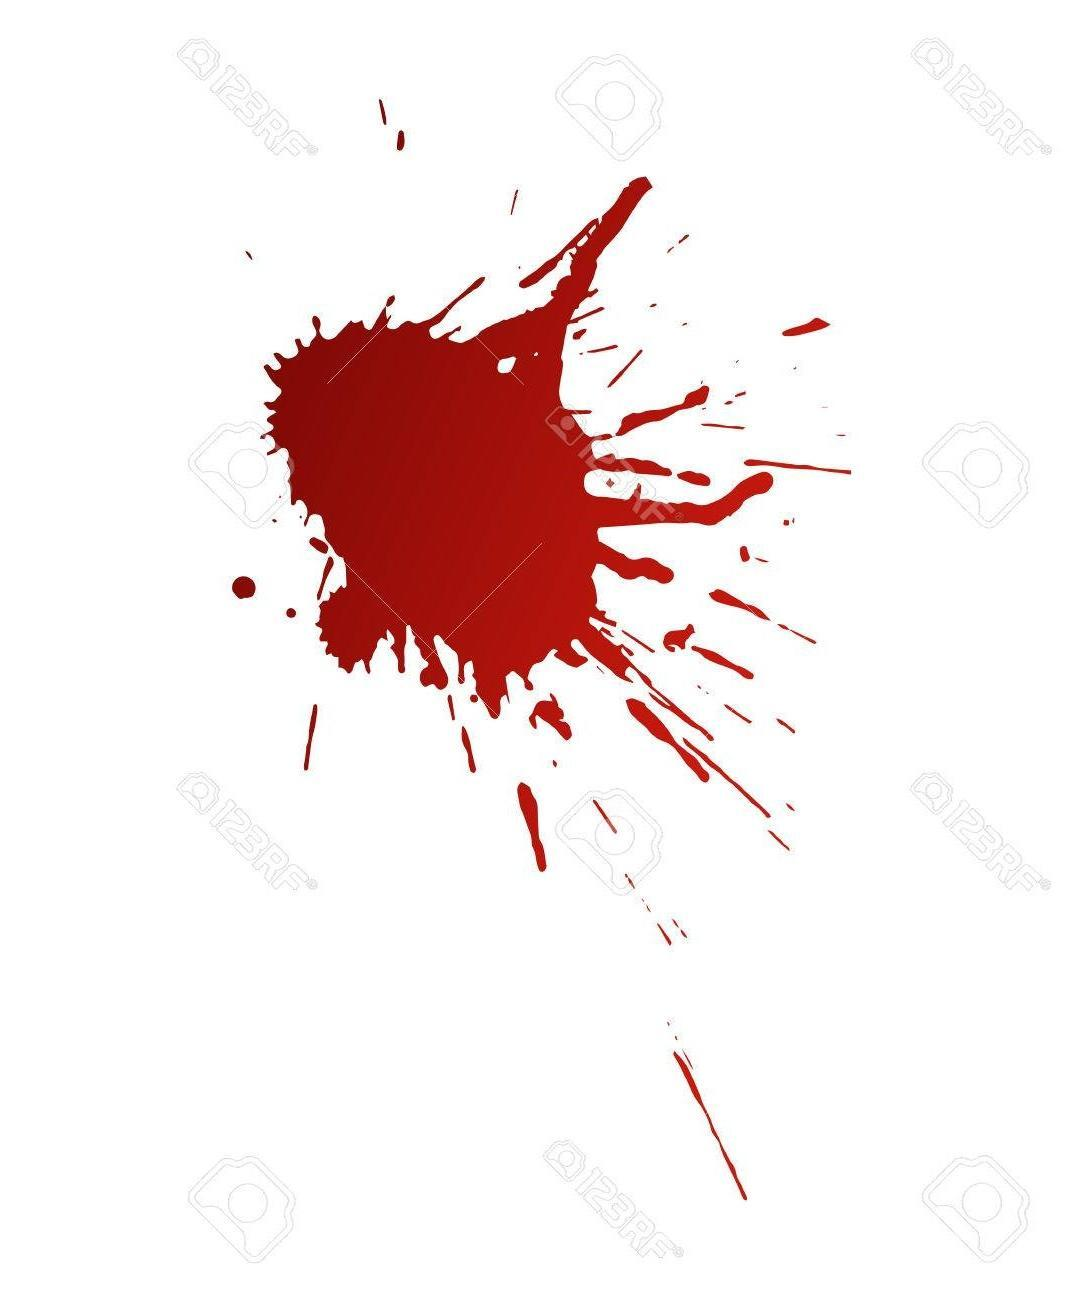Fire: (260, 175, 773, 741)
